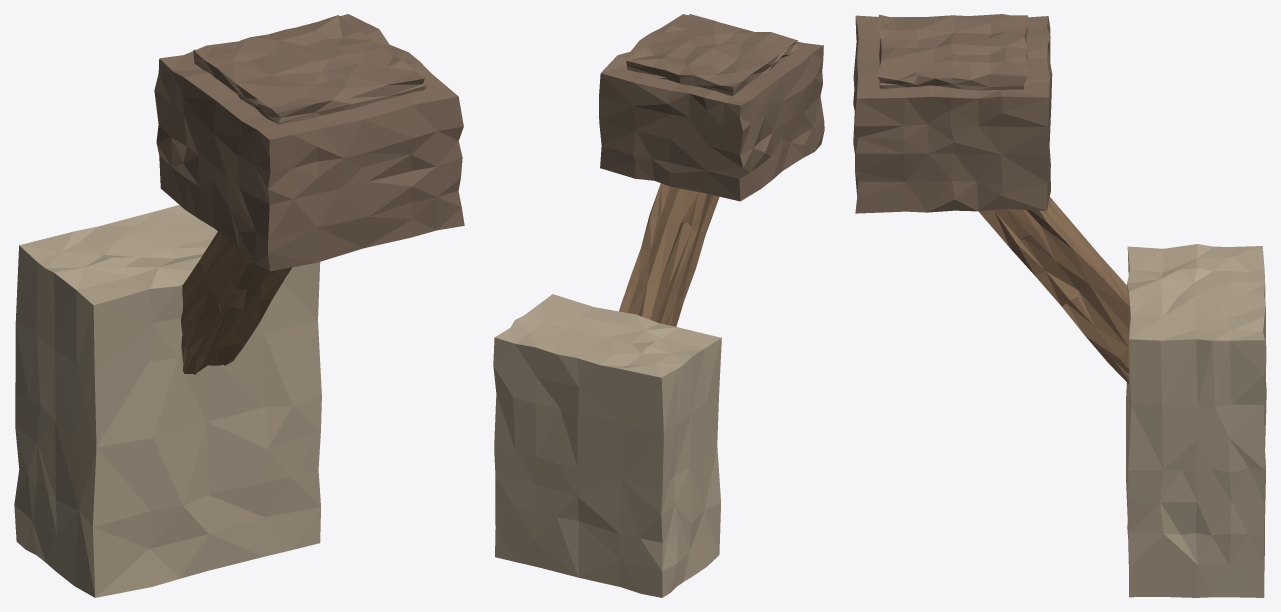
Rendered from SM_Torch.fbx.
3 renders of one model, left to right at view 1: azimuth 30°, elevation 25°; view 2: azimuth 150°, elevation 25°; view 3: azimuth 270°, elevation 25°, orthographic. The views are drawn at different scales.
Parts seen in each view (by area): view 1: SM_Torch; view 2: SM_Torch; view 3: SM_Torch.
Boxes of the visible parts, left/top/right/bottom form: SM_Torch: left=14, top=14, right=464, bottom=597; SM_Torch: left=493, top=14, right=824, bottom=597; SM_Torch: left=853, top=14, right=1266, bottom=597.
Size of the model in its own units: 0.4092 by 0.9888 by 0.7303.
